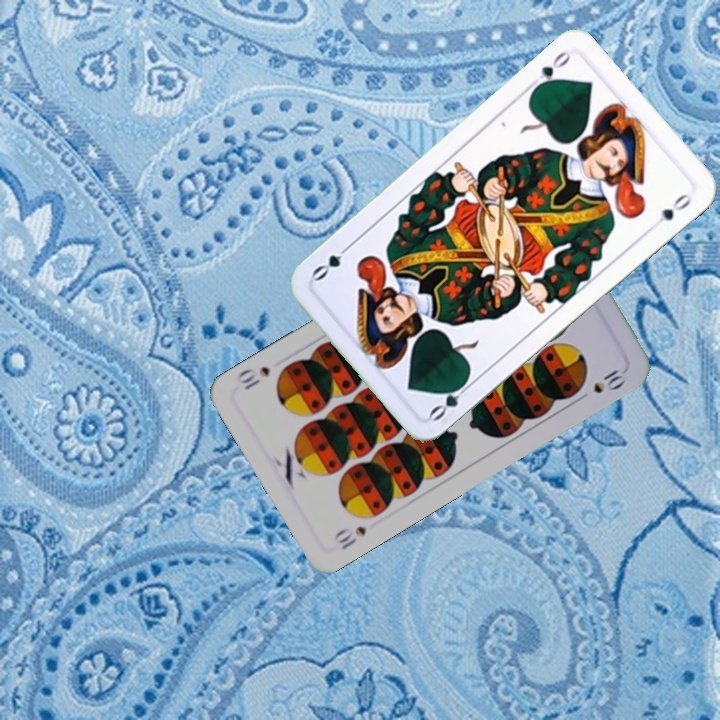GO: (425, 374, 476, 424), (524, 47, 574, 94)
S10: (329, 522, 369, 553)
